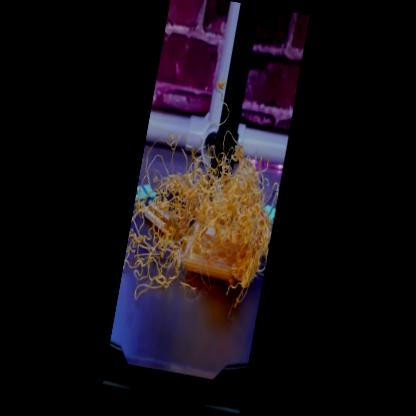fail: (122, 118, 287, 317)
